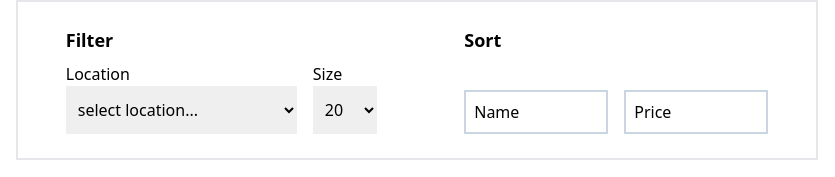
Test: <Toolbar /> behaviour › should update the sort button when sortByPrice is clicked
What coordinates should you click on to do the following:
click the button with test id "toolbar-sortby-price"
I would click on:
 (696, 112)
Its box is top-left (624, 90), bottom-right (768, 134).
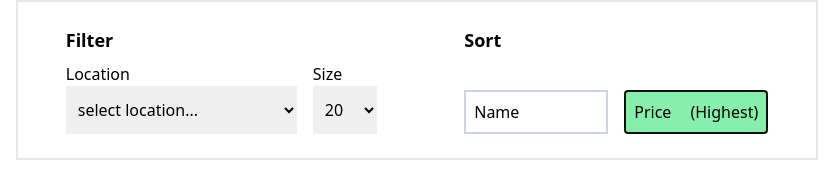
Expected: the text "(Highest)" is shown, top-left (690, 100), bottom-right (758, 124)
What coordinates should you click on to do the following:
click the button with test id "toolbar-sortby-price"
I would click on:
 (696, 112)
Its box is top-left (624, 90), bottom-right (768, 134).
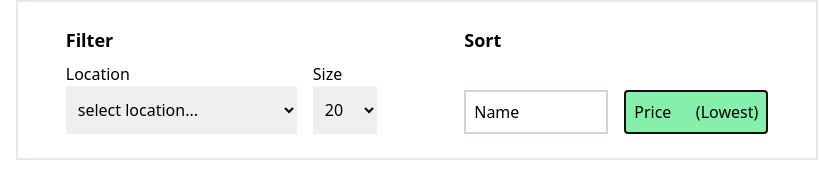
Expected: the text "(Lowest)" is shown, top-left (696, 100), bottom-right (758, 124)
